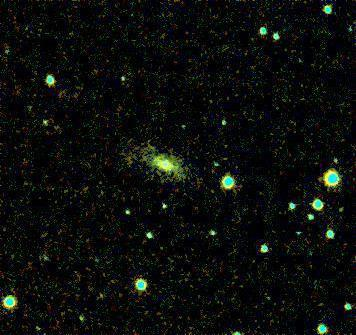star: (260, 95, 290, 125)
